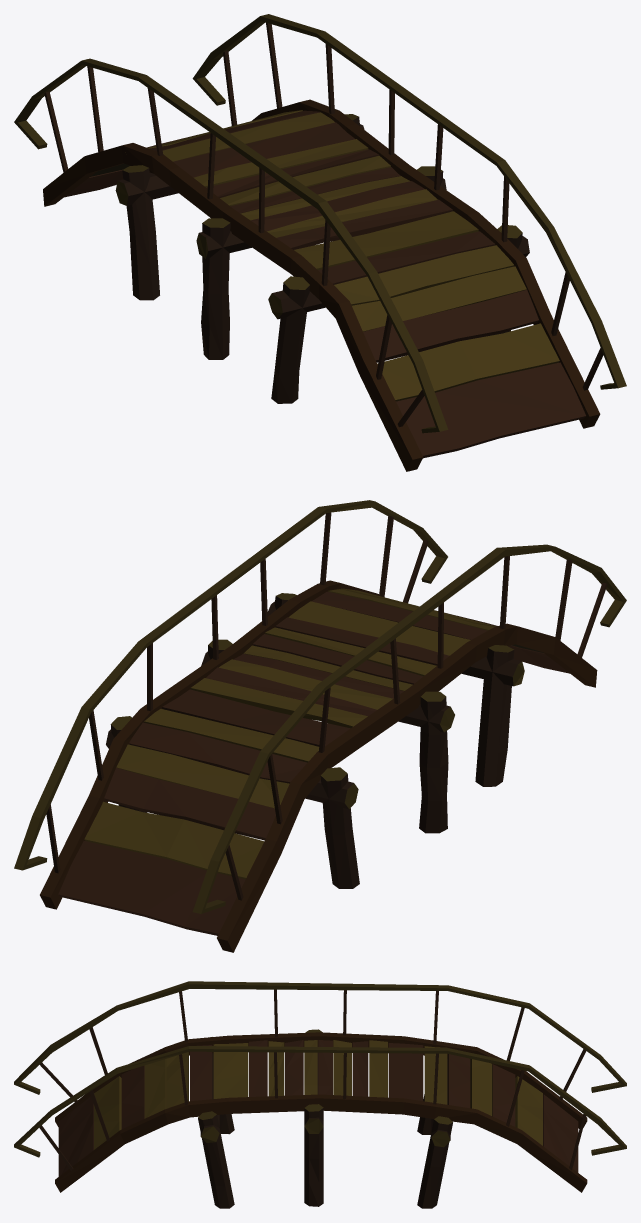
File: brige a.FBX
3 views of the same model, one above another, from view 1: azimuth 30°, elevation 25°; view 2: azimuth 150°, elevation 25°; view 3: azimuth 270°, elevation 25° (orthographic). The views are drawn at different scales.
Parts seen in each view (by area): view 1: brige a; view 2: brige a; view 3: brige a.
Boxes of the visible parts, left/top/right/bottom form: brige a: left=14, top=14, right=626, bottom=471; brige a: left=14, top=500, right=626, bottom=952; brige a: left=14, top=981, right=626, bottom=1208.
Bounding box in the file's own units: 2.53 × 7.46 × 2.05.
